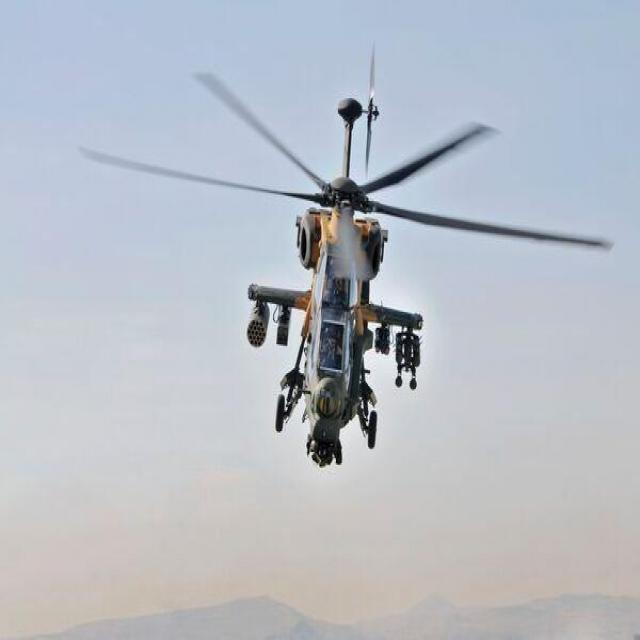MIL_HELO: (79, 37, 625, 471)
